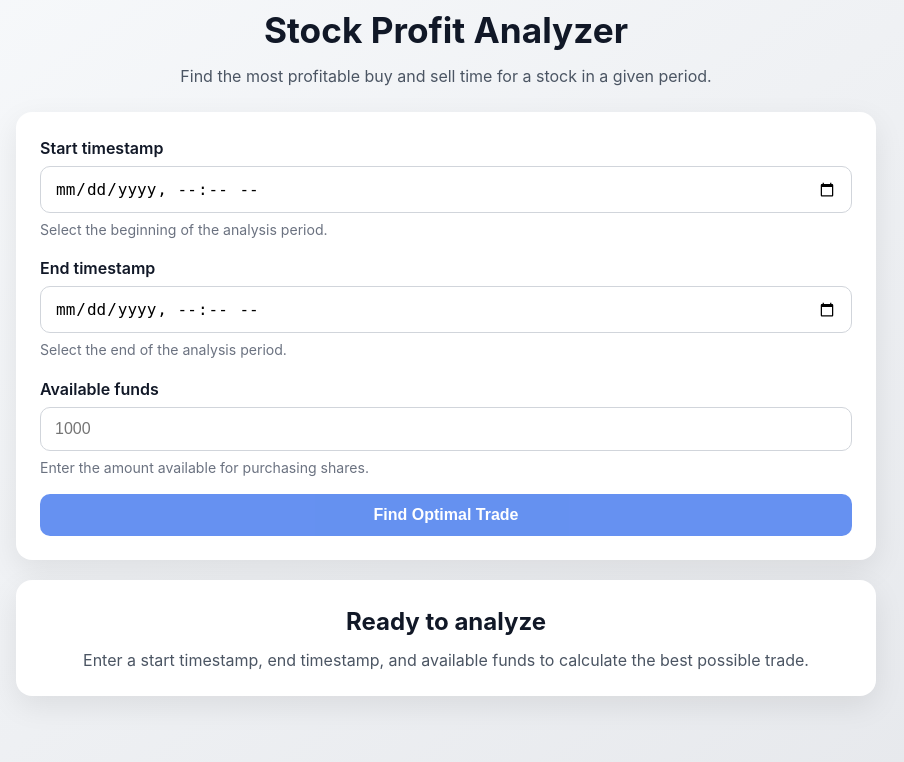
App › shows funds validation when funds are zero
This screenshot has width=904, height=762.
Type "0" into the number field labelled "Available funds". click: {"x": 446, "y": 429}
box: top-left (40, 407), bottom-right (852, 451)
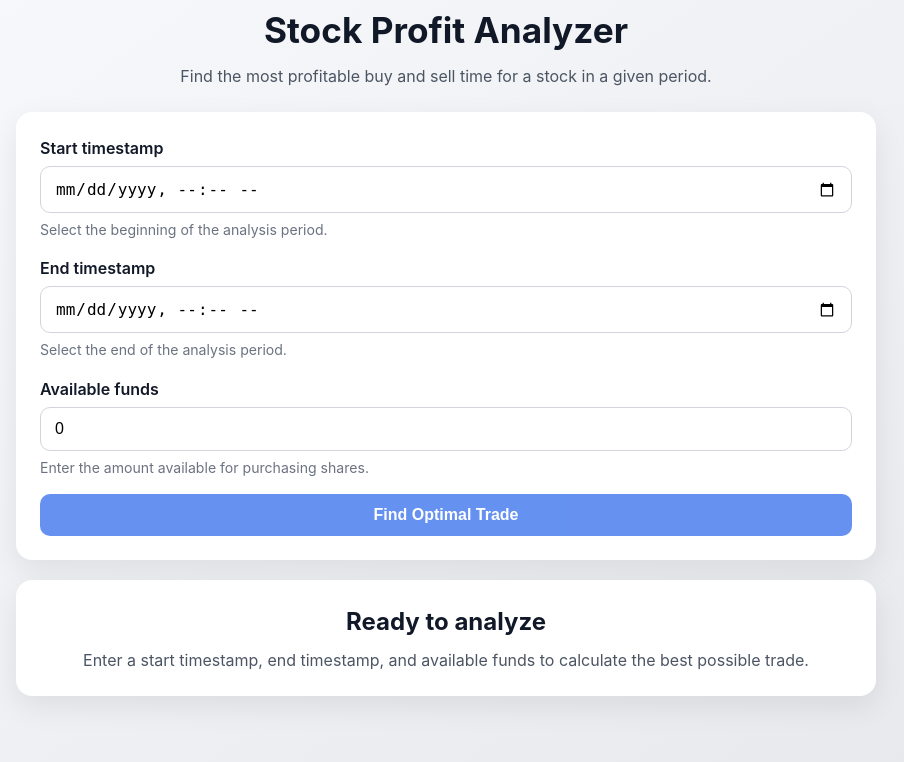
Leave the number field labelled "Available funds", box top-left (40, 407), bottom-right (852, 451)
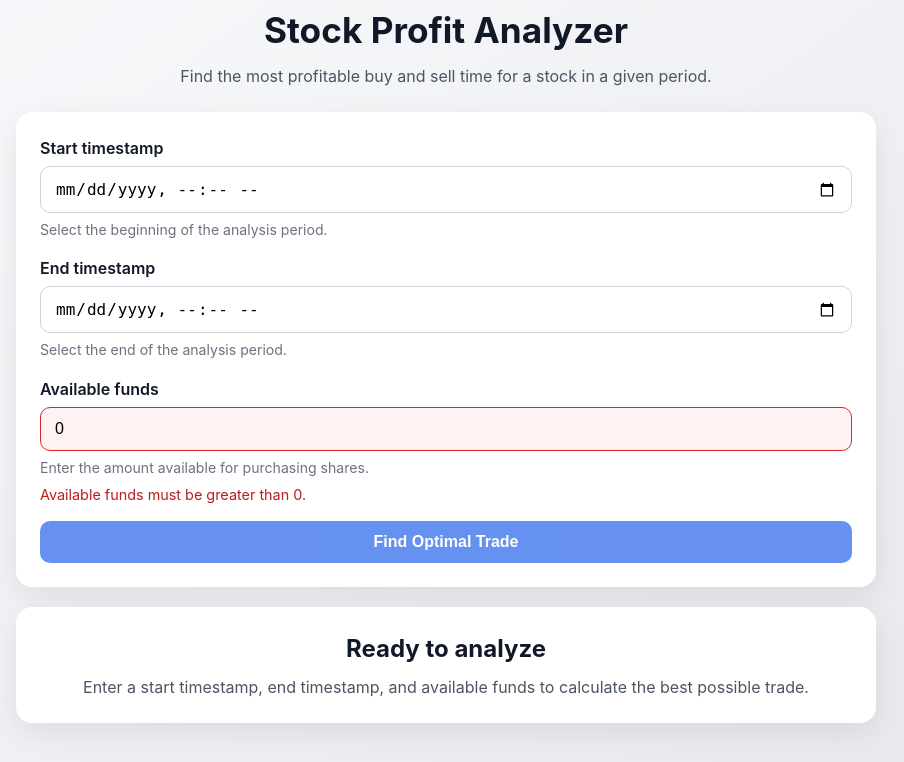
Now the text "Available funds must be greater than 0." is shown, box top-left (40, 486), bottom-right (306, 503)
